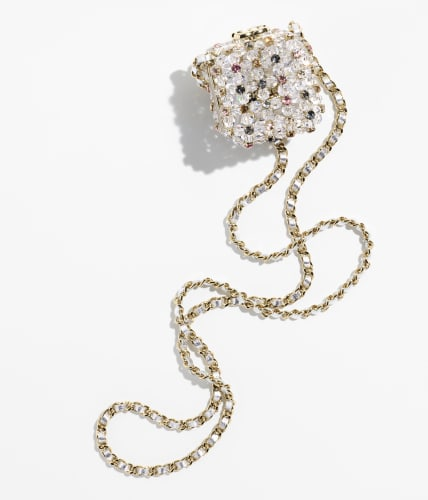channel: (174, 23, 338, 161), (280, 137, 303, 304)
